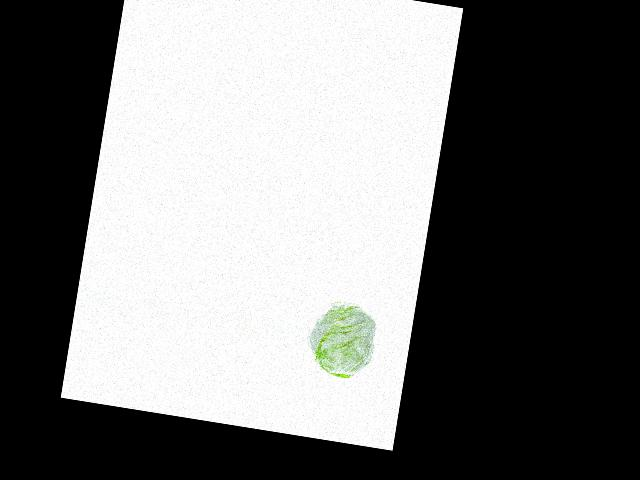lettuce: (303, 297, 377, 379)
